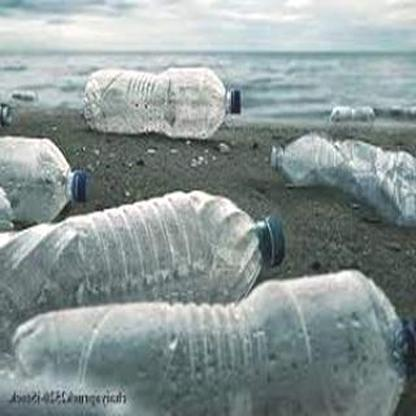plastic bottle: (10, 270, 416, 414), (1, 190, 286, 313), (270, 131, 416, 223), (83, 68, 242, 138), (2, 134, 88, 222)
